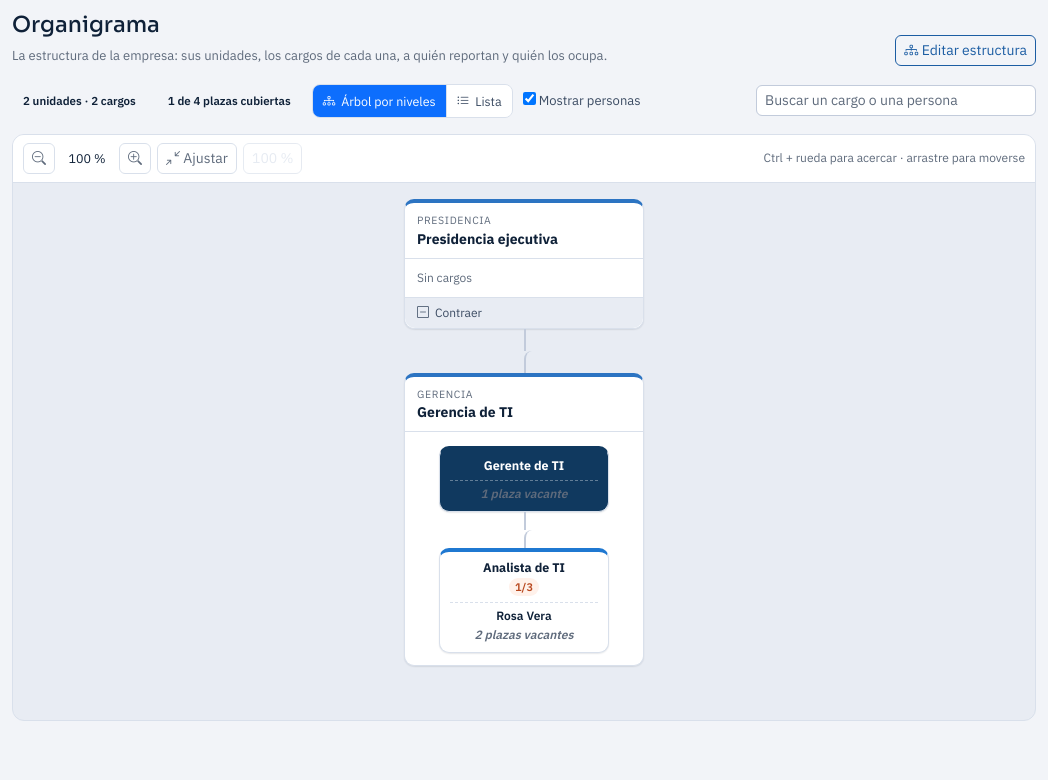
Scenario: El organigrama › también se ve en lista, con a quién reporta cada cargo
Click the radio button labelled "Lista" at (479, 101), box [446,85,512,117]
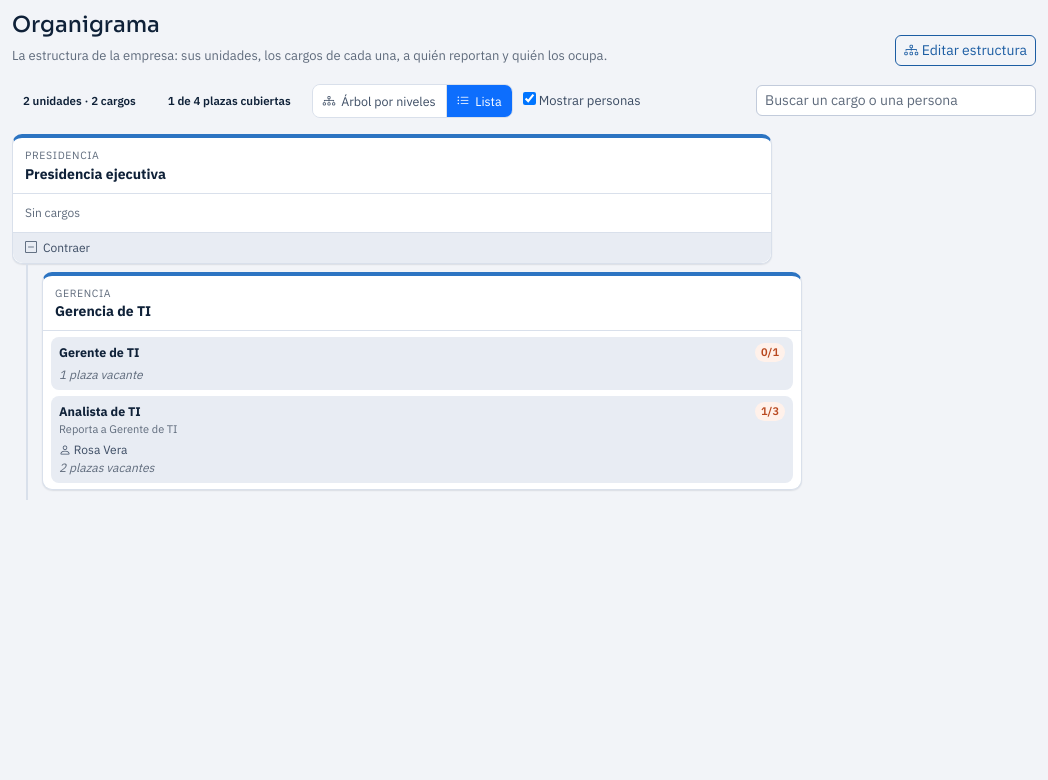
Now the text "Reporta a Gerente de TI" is shown, box [59,422,177,436]
